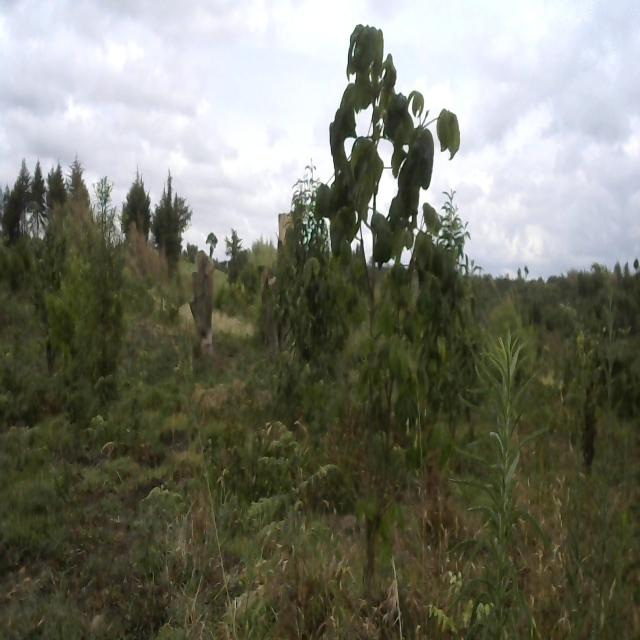Dombeya torrida: (311, 7, 465, 533)
Juniperus procesera: (160, 169, 193, 274), (117, 162, 151, 254), (45, 156, 67, 219), (30, 156, 47, 237), (66, 155, 90, 209), (13, 157, 29, 229)
